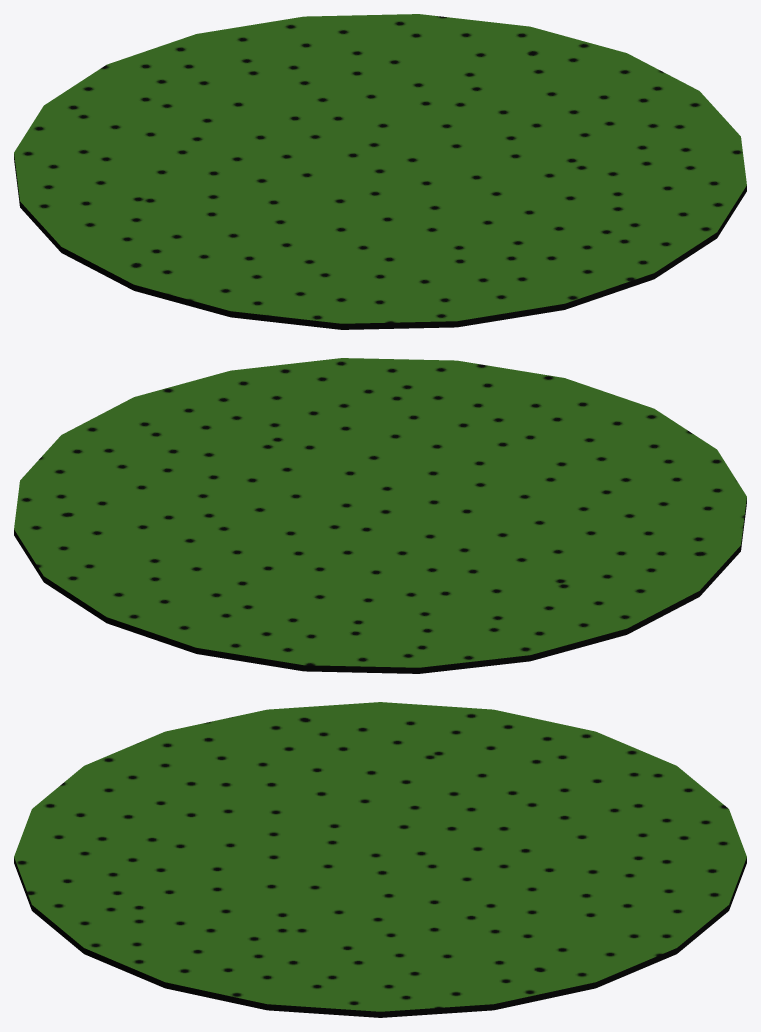
File: rug.fbx
The picture shows the model from 3 angles, top to bottom: view 1: azimuth 30°, elevation 25°; view 2: azimuth 150°, elevation 25°; view 3: azimuth 270°, elevation 25°; orthographic projection.
Parts seen in each view (by area): view 1: rug; view 2: rug; view 3: rug.
Part boxes in pixels (bbox=[...]): rug: bbox=[14, 14, 746, 329]; rug: bbox=[14, 358, 746, 673]; rug: bbox=[14, 702, 746, 1017].
Size of the model in its own units: 16.93 by 0.1569 by 16.93.
